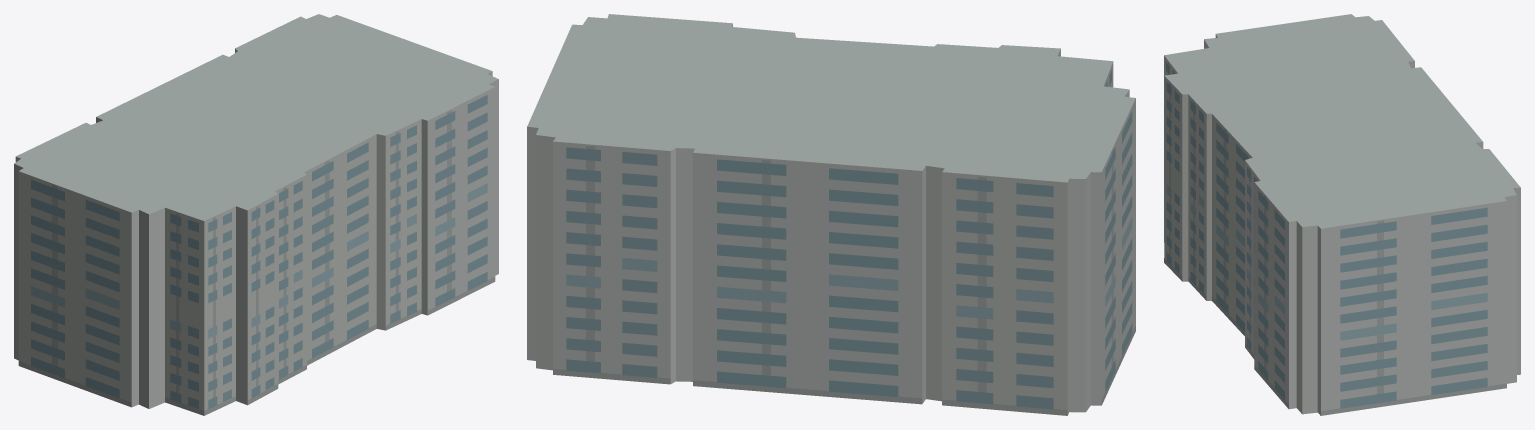
Rendered from survey-upis-32762908.glb.
3 renders of one model, left to right at view 1: azimuth 30°, elevation 25°; view 2: azimuth 150°, elevation 25°; view 3: azimuth 270°, elevation 25°, orthographic. The views are drawn at different scales.
Visible parts, largest first — view 1: survey-upis-32762908.tmp; view 2: survey-upis-32762908.tmp; view 3: survey-upis-32762908.tmp.
Part boxes in pixels (x1=…): survey-upis-32762908.tmp: x1=14, y1=14, x2=498, y2=415; survey-upis-32762908.tmp: x1=527, y1=14, x2=1135, y2=415; survey-upis-32762908.tmp: x1=1164, y1=14, x2=1520, y2=415.
Size of the model in its own units: 82.54 by 33.55 by 57.95.
